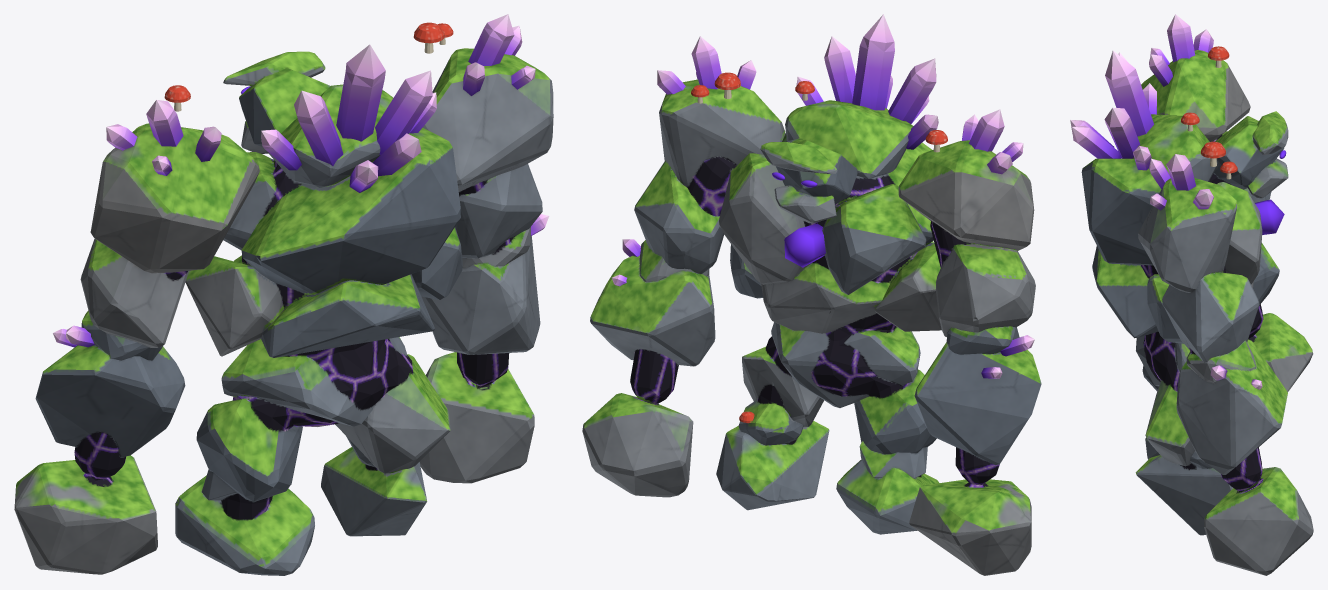
Rendered from MossbackGolem.obj.
The picture shows the model from 3 angles, left to right: view 1: azimuth 30°, elevation 25°; view 2: azimuth 150°, elevation 25°; view 3: azimuth 270°, elevation 25°; orthographic projection. The views are drawn at different scales.
Parts seen in each view (by area): view 1: MossbackGolem_Body, MossbackGolem_Crystals; view 2: MossbackGolem_Body, MossbackGolem_Crystals, MossbackGolem_Glow; view 3: MossbackGolem_Body, MossbackGolem_Crystals, MossbackGolem_Glow.
Part boxes in pixels (x1,y1,x2,y2): MossbackGolem_Body: (14, 22, 553, 575); MossbackGolem_Crystals: (53, 14, 549, 347); MossbackGolem_Body: (582, 72, 1041, 575); MossbackGolem_Crystals: (612, 14, 1034, 378); MossbackGolem_Glow: (772, 172, 825, 267); MossbackGolem_Body: (1081, 46, 1313, 575); MossbackGolem_Crystals: (1070, 14, 1262, 389); MossbackGolem_Glow: (1255, 150, 1286, 234).
Bounding box in the file's own units: 9.34 × 9.67 × 4.74.
Materials: 3 (2 with a texture image).
